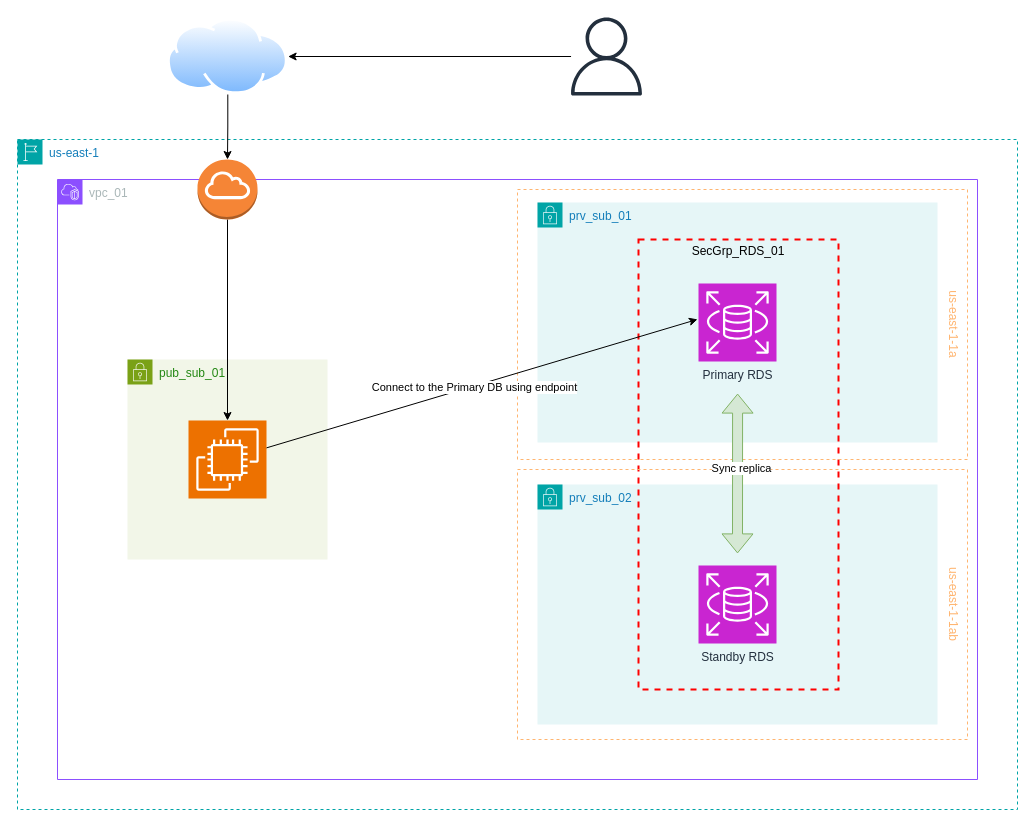
This 1035x827 diagram has some shape labels left out. Here are the shapes that lost their labels. From the top down, the centre of each, then its label:
the point at 227,189: igw
the point at 227,459: Bastion Host
